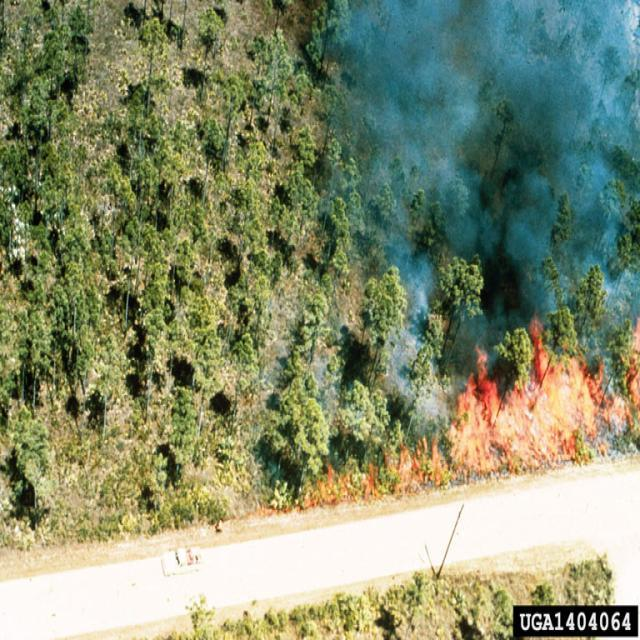Fire: (303, 312, 640, 508)
